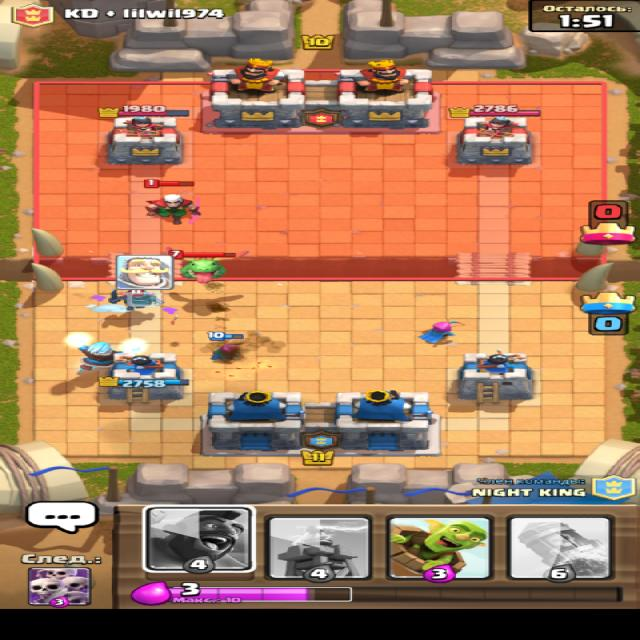Enemy-BabyDragon: (162, 245, 250, 283)
Enemy-MagicArcher: (139, 178, 205, 225)
Enemy-MiniPEKKA: (105, 288, 164, 312)
Player-Archer: (202, 329, 242, 362), (415, 320, 465, 344)
Player-IceWizard: (60, 330, 145, 372)
